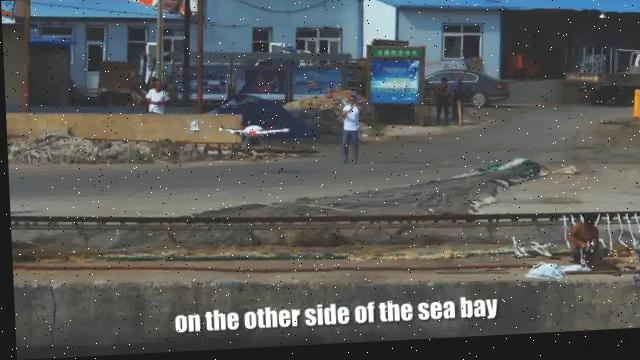drone: (212, 116, 288, 150)
